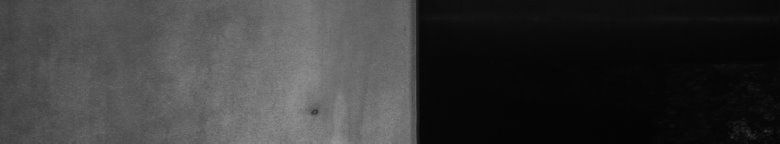fi: (304, 108, 320, 120)
